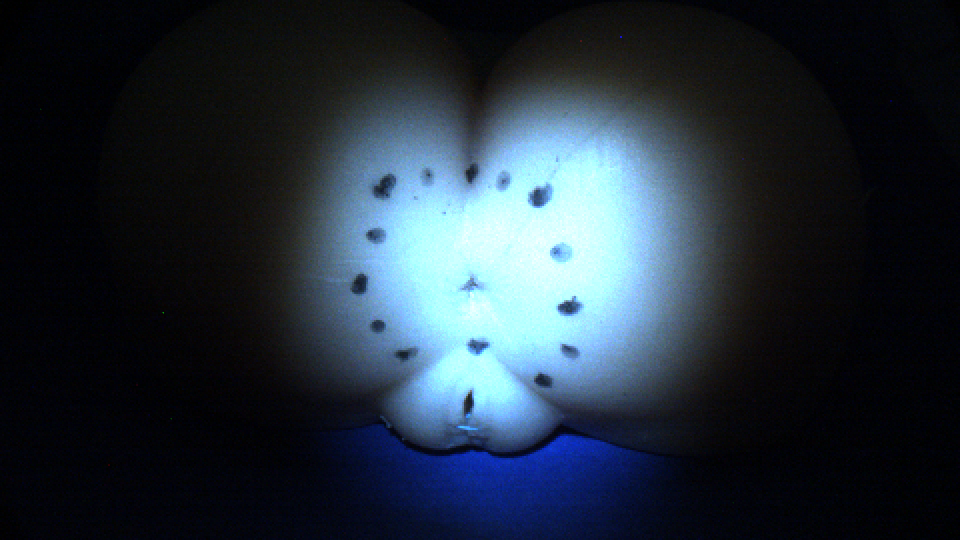asarp_marker: (544, 234, 580, 268), (524, 182, 557, 211), (371, 174, 403, 201), (458, 155, 485, 186), (556, 295, 590, 319), (525, 369, 561, 390), (462, 334, 492, 358), (362, 228, 395, 248), (555, 342, 588, 361), (347, 271, 371, 296), (392, 348, 428, 364), (416, 159, 437, 186), (493, 169, 512, 193), (371, 315, 388, 338)
